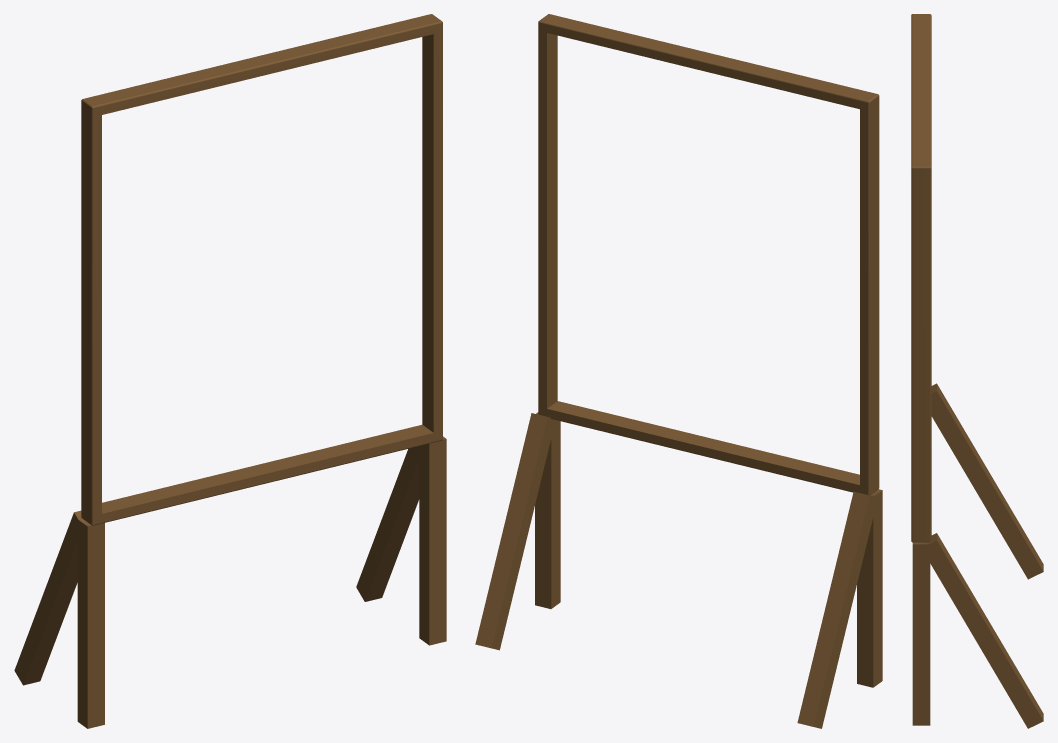
Rendered from BoardFrame.fbx.
The picture shows the model from 3 angles, left to right: view 1: azimuth 30°, elevation 25°; view 2: azimuth 150°, elevation 25°; view 3: azimuth 270°, elevation 25°; orthographic projection. The views are drawn at different scales.
Parts seen in each view (by area): view 1: BoardFrame; view 2: BoardFrame; view 3: BoardFrame.
Boxes of the visible parts, x1,y1,x2,y2 form: BoardFrame: (14,14,446,728); BoardFrame: (475,14,882,728); BoardFrame: (911,14,1043,728).
Size of the model in its own units: 0.146 by 0.243 by 0.0521.
